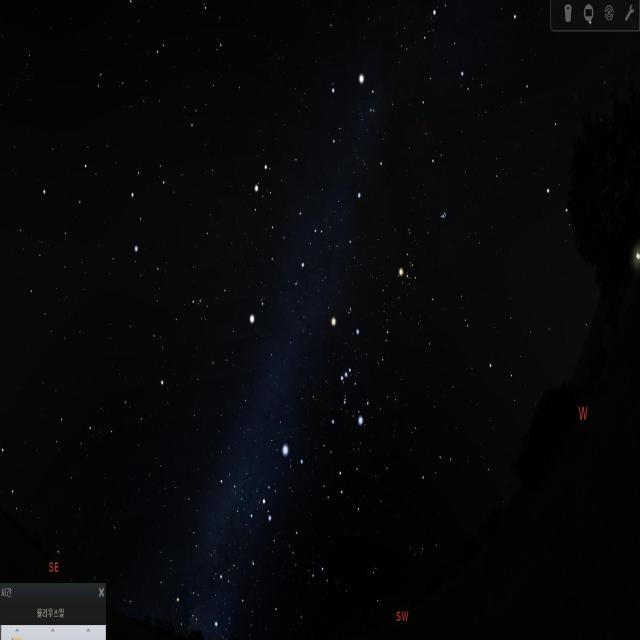canis_major: (255, 429, 310, 534)
canis_minor: (248, 294, 268, 337)
gemini: (247, 150, 331, 280)
leo: (41, 133, 177, 267)
orion: (323, 301, 372, 441)
pleiades: (434, 197, 451, 233)
taurus: (387, 189, 457, 306)
